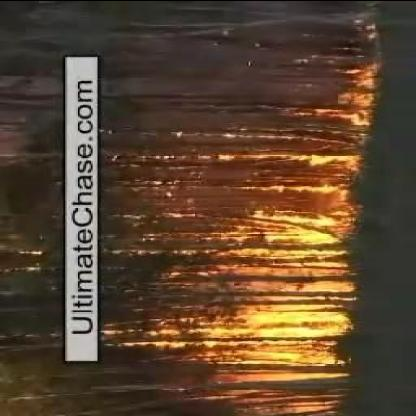foggia-v2-map80-epoch100 - v1 4323: (242, 305, 350, 336), (272, 209, 344, 243)
